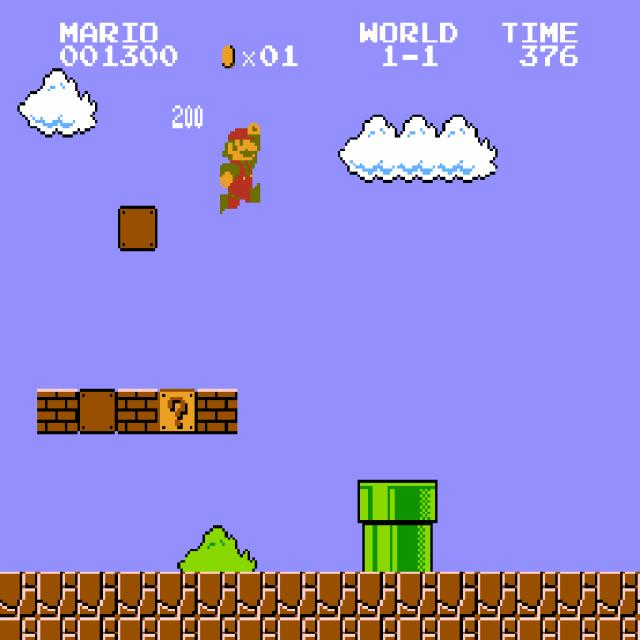big_mario: (218, 120, 260, 214)
brick_block: (37, 389, 78, 434), (117, 389, 158, 434), (197, 389, 238, 434)
empty_block: (77, 389, 118, 434), (117, 206, 158, 251)
mystery_block: (157, 389, 198, 434)
pipe: (357, 526, 398, 571), (397, 526, 438, 571)
pipe_head: (357, 480, 398, 526), (397, 480, 438, 526)
undestructible_block: (37, 572, 78, 617), (77, 572, 118, 617), (117, 572, 158, 617), (157, 572, 198, 617), (197, 572, 238, 617), (237, 572, 278, 617), (277, 572, 318, 617), (317, 572, 358, 617), (357, 572, 398, 617), (397, 572, 438, 617), (437, 572, 478, 617), (477, 572, 518, 617), (517, 572, 558, 617), (557, 572, 598, 617), (597, 572, 638, 617), (0, 572, 37, 617), (37, 617, 78, 640), (77, 617, 118, 640), (117, 617, 158, 640), (157, 617, 198, 640), (197, 617, 238, 640), (237, 617, 278, 640), (277, 617, 318, 640), (317, 617, 358, 640), (357, 617, 398, 640), (397, 617, 438, 640), (437, 617, 478, 640), (477, 617, 518, 640), (517, 617, 558, 640), (557, 617, 598, 640), (597, 617, 638, 640), (0, 617, 37, 640), (637, 571, 640, 617), (637, 617, 640, 639)
